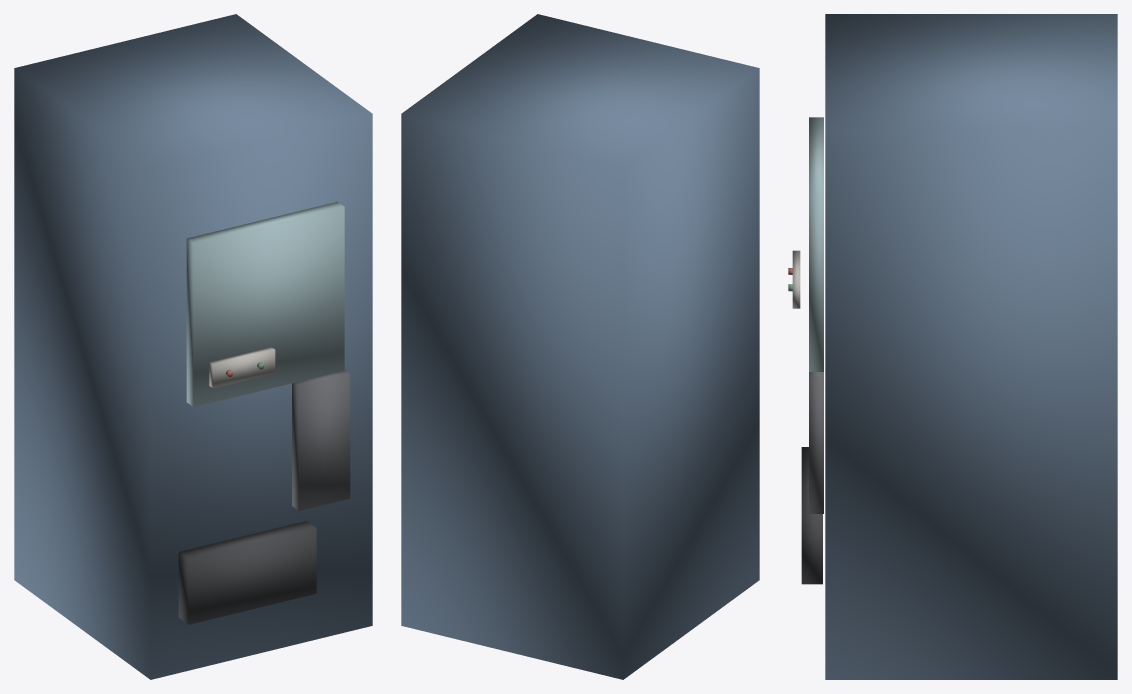
The model's file is drink_vending_machine__deep.glb.
The picture shows the model from 3 angles, left to right: view 1: azimuth 30°, elevation 25°; view 2: azimuth 150°, elevation 25°; view 3: azimuth 270°, elevation 25°; orthographic projection. The views are drawn at different scales.
Visible parts, largest first — view 1: world; view 2: world; view 3: world.
Boxes of the visible parts, x1,y1,x2,y2 form: world: (14, 14, 372, 679); world: (401, 14, 759, 679); world: (788, 14, 1117, 679).
Bounding box in the file's own units: 0.78 × 1.72 × 0.9345.
